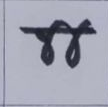i_matra: (43, 21, 67, 64)
